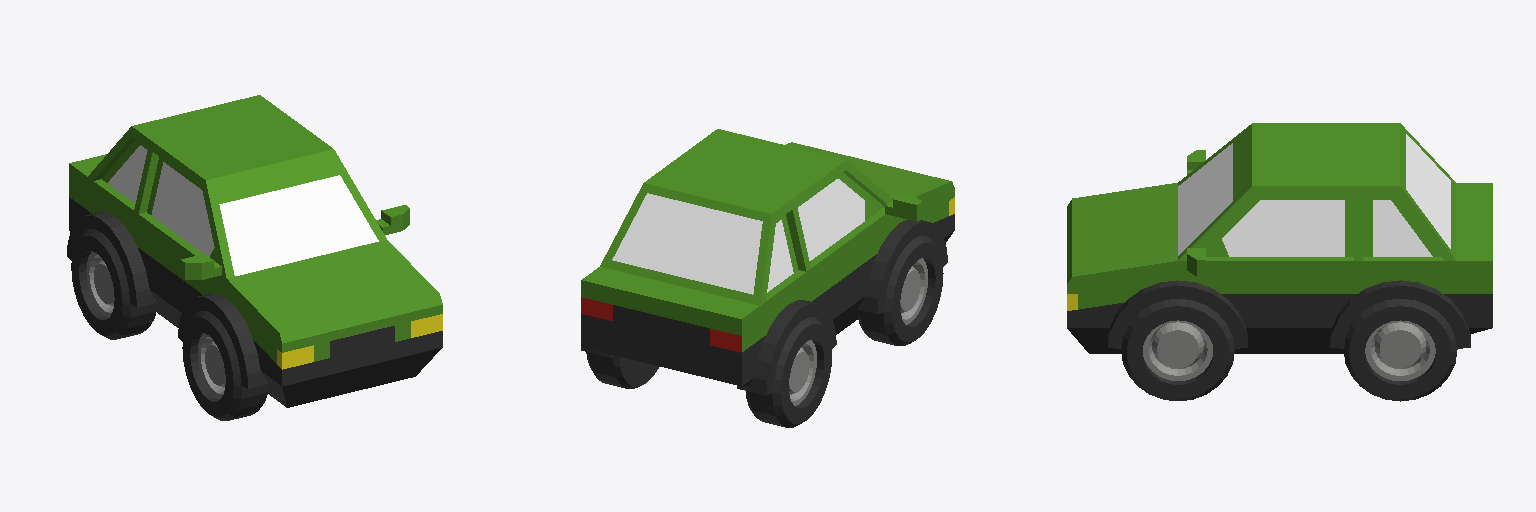
The model's file is car_small_green.obj.
3 views of the same model, side by side, from view 1: azimuth 30°, elevation 25°; view 2: azimuth 150°, elevation 25°; view 3: azimuth 270°, elevation 25° (orthographic).
Visible parts, largest first — view 1: mergedBlocks; view 2: mergedBlocks; view 3: mergedBlocks.
Part boxes in pixels (x1,y1,x2,y2): mergedBlocks: (67, 95, 442, 420); mergedBlocks: (581, 129, 954, 427); mergedBlocks: (1067, 123, 1492, 401).
Bounding box in the file's own units: 1.4 × 1.21 × 2.3.